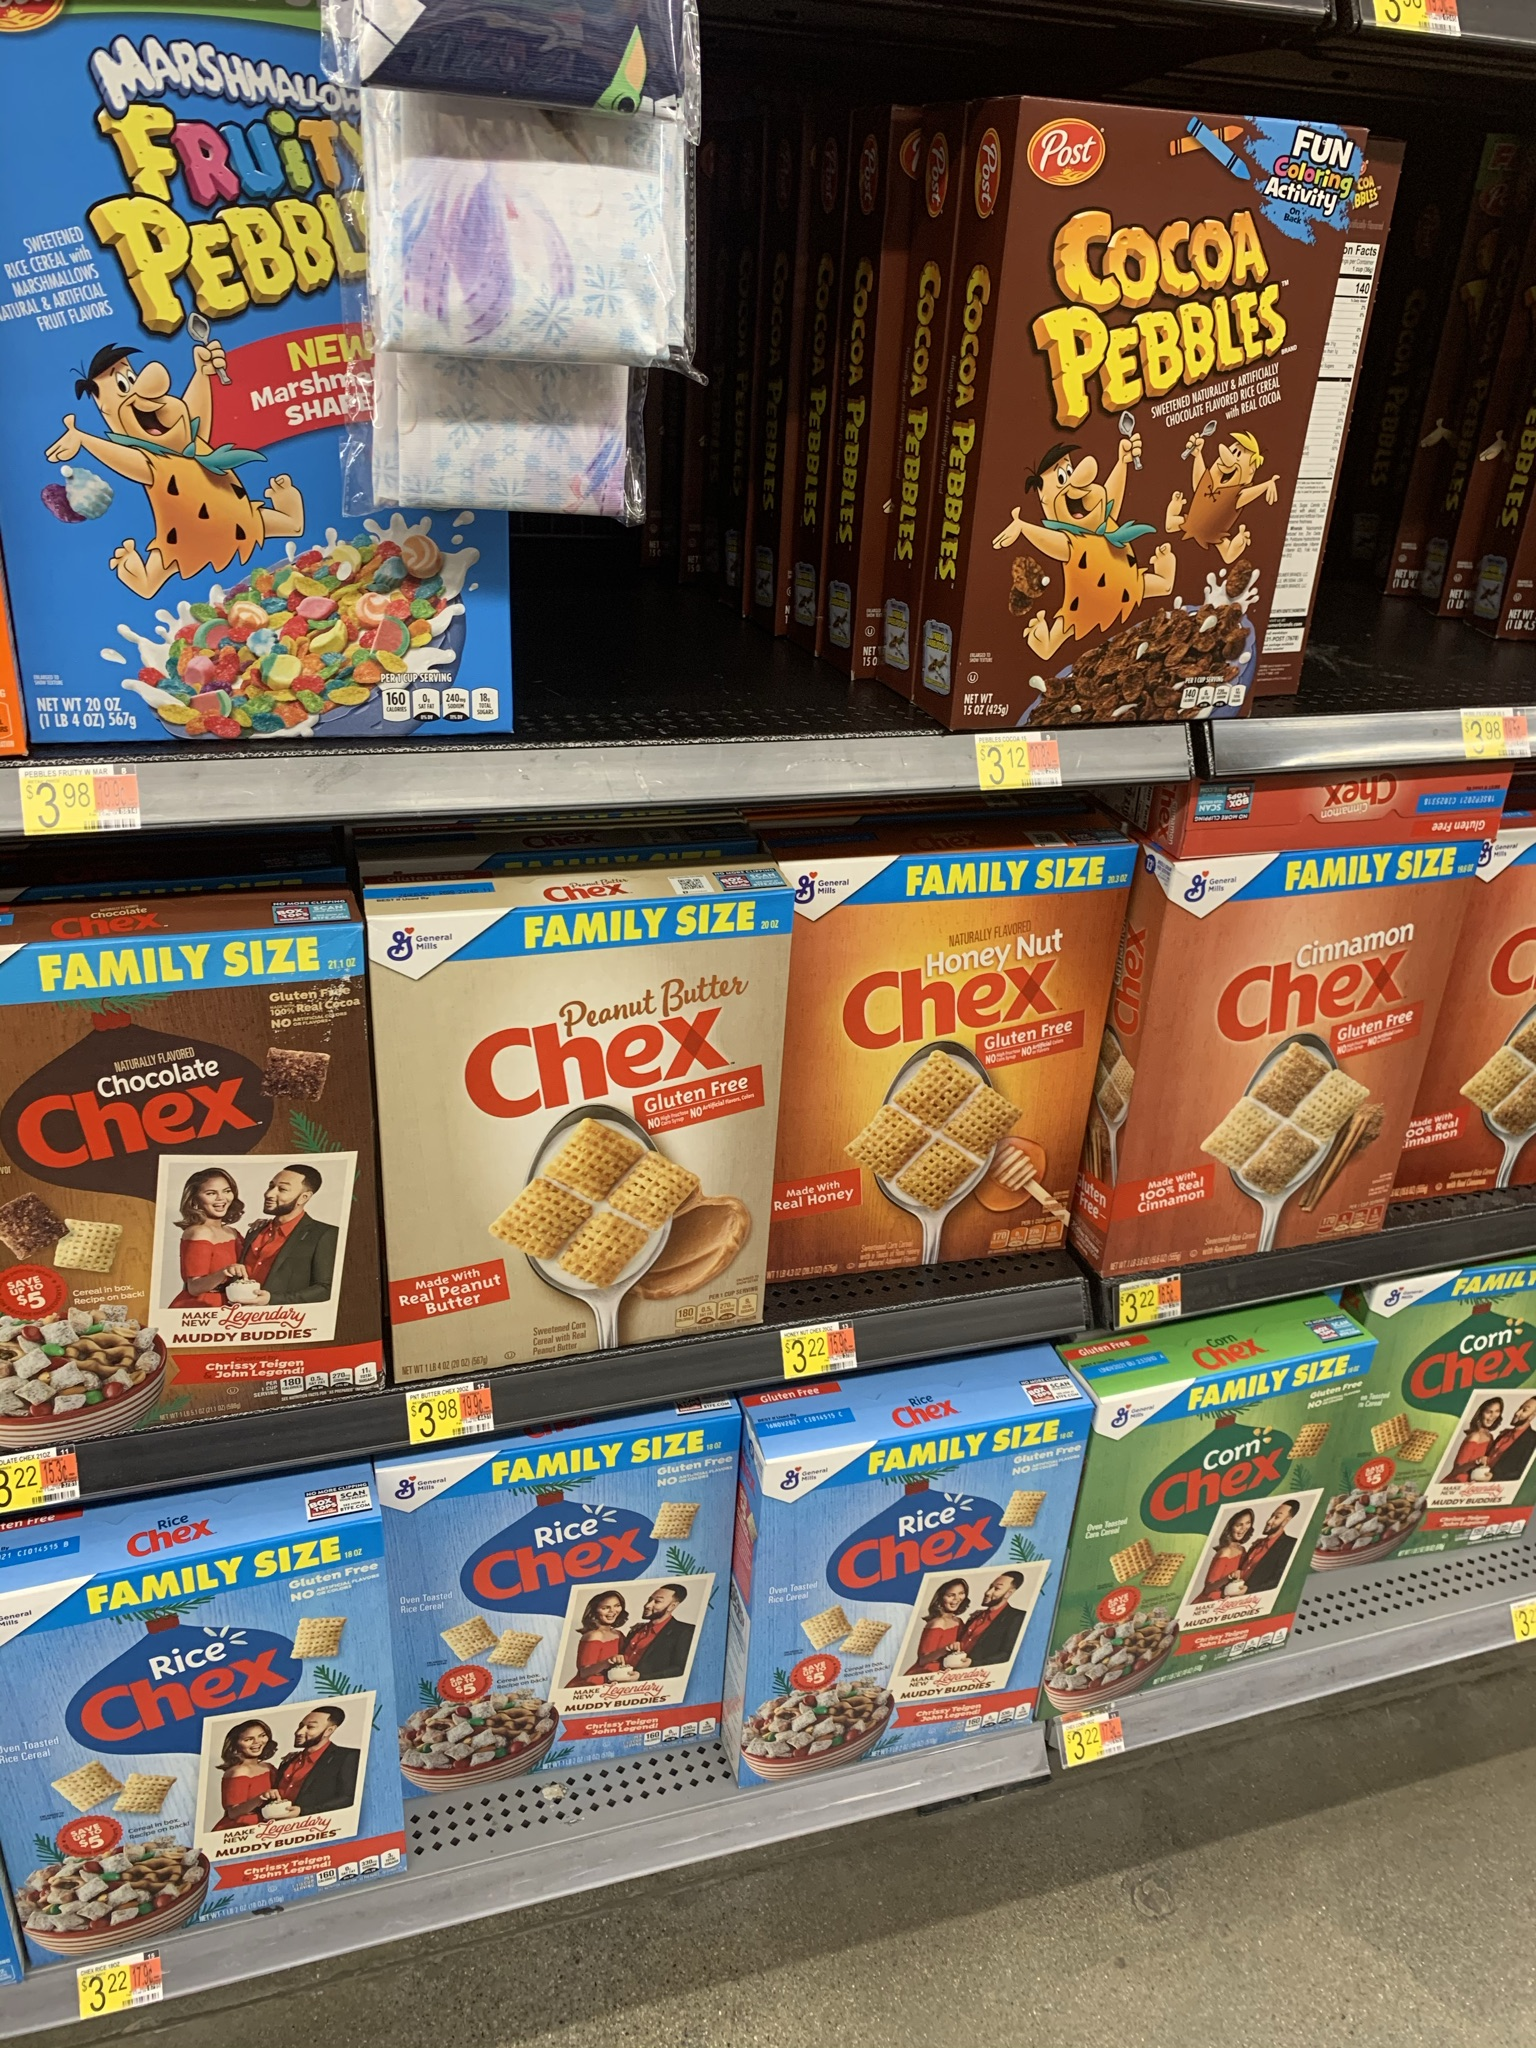cereal: (361, 901, 770, 1366), (2, 930, 378, 1432), (39, 1519, 381, 1951), (771, 855, 1063, 1266), (376, 1461, 715, 1764), (1158, 864, 1392, 1248), (758, 1447, 1033, 1738), (1105, 1364, 1312, 1669)
